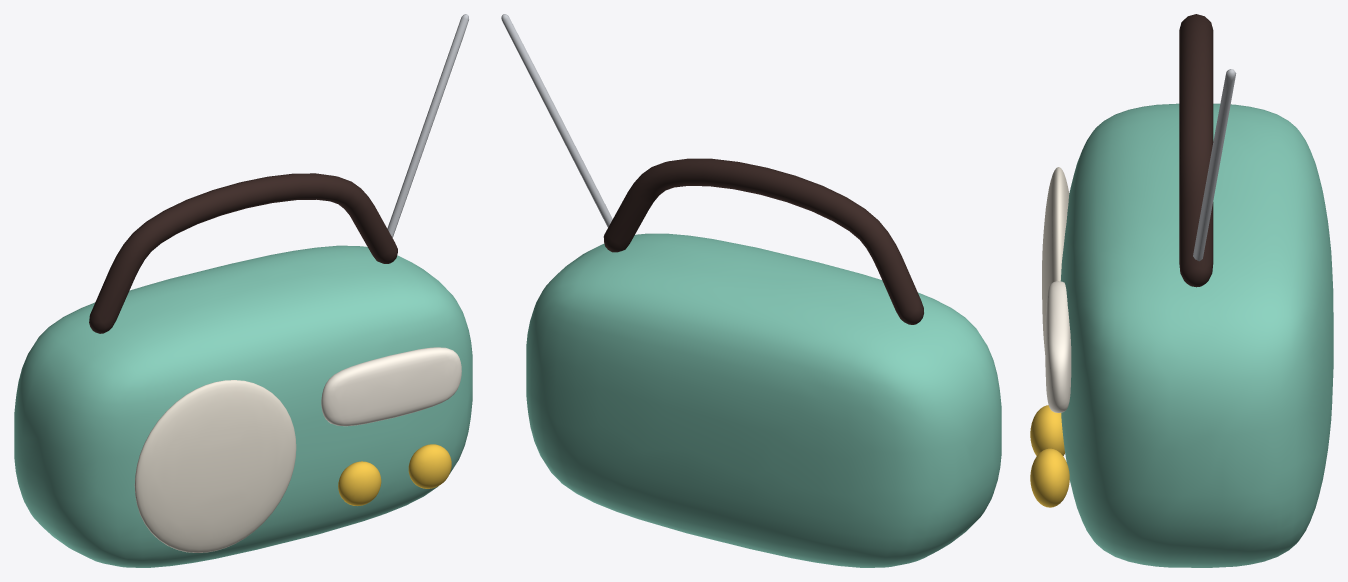
The model's file is deco_radio.glb.
The picture shows the model from 3 angles, left to right: view 1: azimuth 30°, elevation 25°; view 2: azimuth 150°, elevation 25°; view 3: azimuth 270°, elevation 25°; orthographic projection. The views are drawn at different scales.
Parts seen in each view (by area): view 1: radio.001, parlante radio.001, asa radio.001, dial.001, antena radio.001, perilla radio 1.001, perilla radio 0.001; view 2: radio.001, asa radio.001, antena radio.001; view 3: radio.001, asa radio.001, dial.001, parlante radio.001, antena radio.001, perilla radio 1.001, perilla radio 0.001.
Part boxes in pixels (x1,y1,x2,y2): radio.001: (14, 245, 472, 567); parlante radio.001: (134, 380, 296, 552); asa radio.001: (89, 173, 397, 333); dial.001: (321, 347, 461, 426); antena radio.001: (387, 14, 468, 237); perilla radio 1.001: (408, 444, 451, 488); perilla radio 0.001: (338, 461, 381, 505); radio.001: (526, 233, 1001, 567); asa radio.001: (603, 158, 923, 324); antena radio.001: (501, 14, 612, 227); radio.001: (1060, 103, 1333, 567); asa radio.001: (1179, 14, 1213, 287); dial.001: (1045, 281, 1071, 412); parlante radio.001: (1042, 167, 1069, 354); antena radio.001: (1193, 69, 1236, 261); perilla radio 1.001: (1030, 448, 1069, 507); perilla radio 0.001: (1030, 405, 1064, 455).
Bounding box in the file's own units: 0.3832 × 0.3644 × 0.1763.
